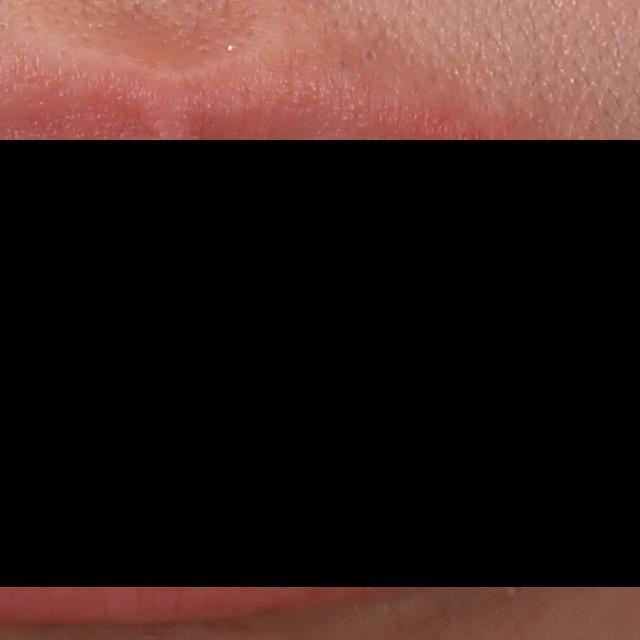comedo: (362, 46, 378, 64)
